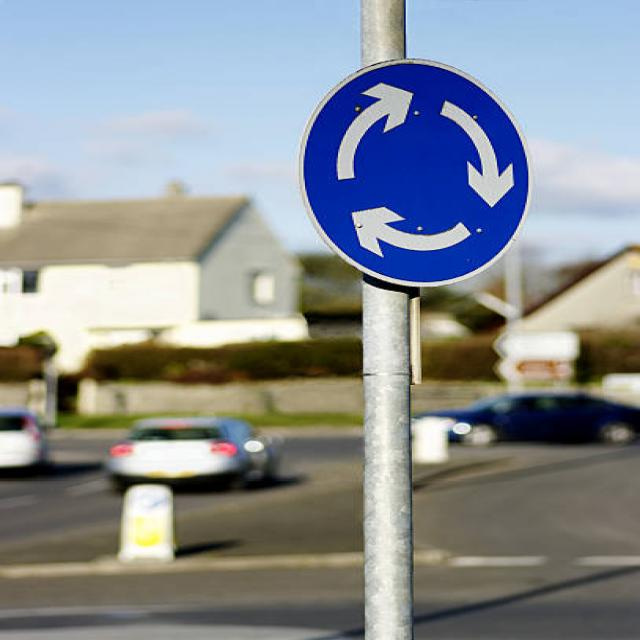round_about: (303, 50, 573, 299)
